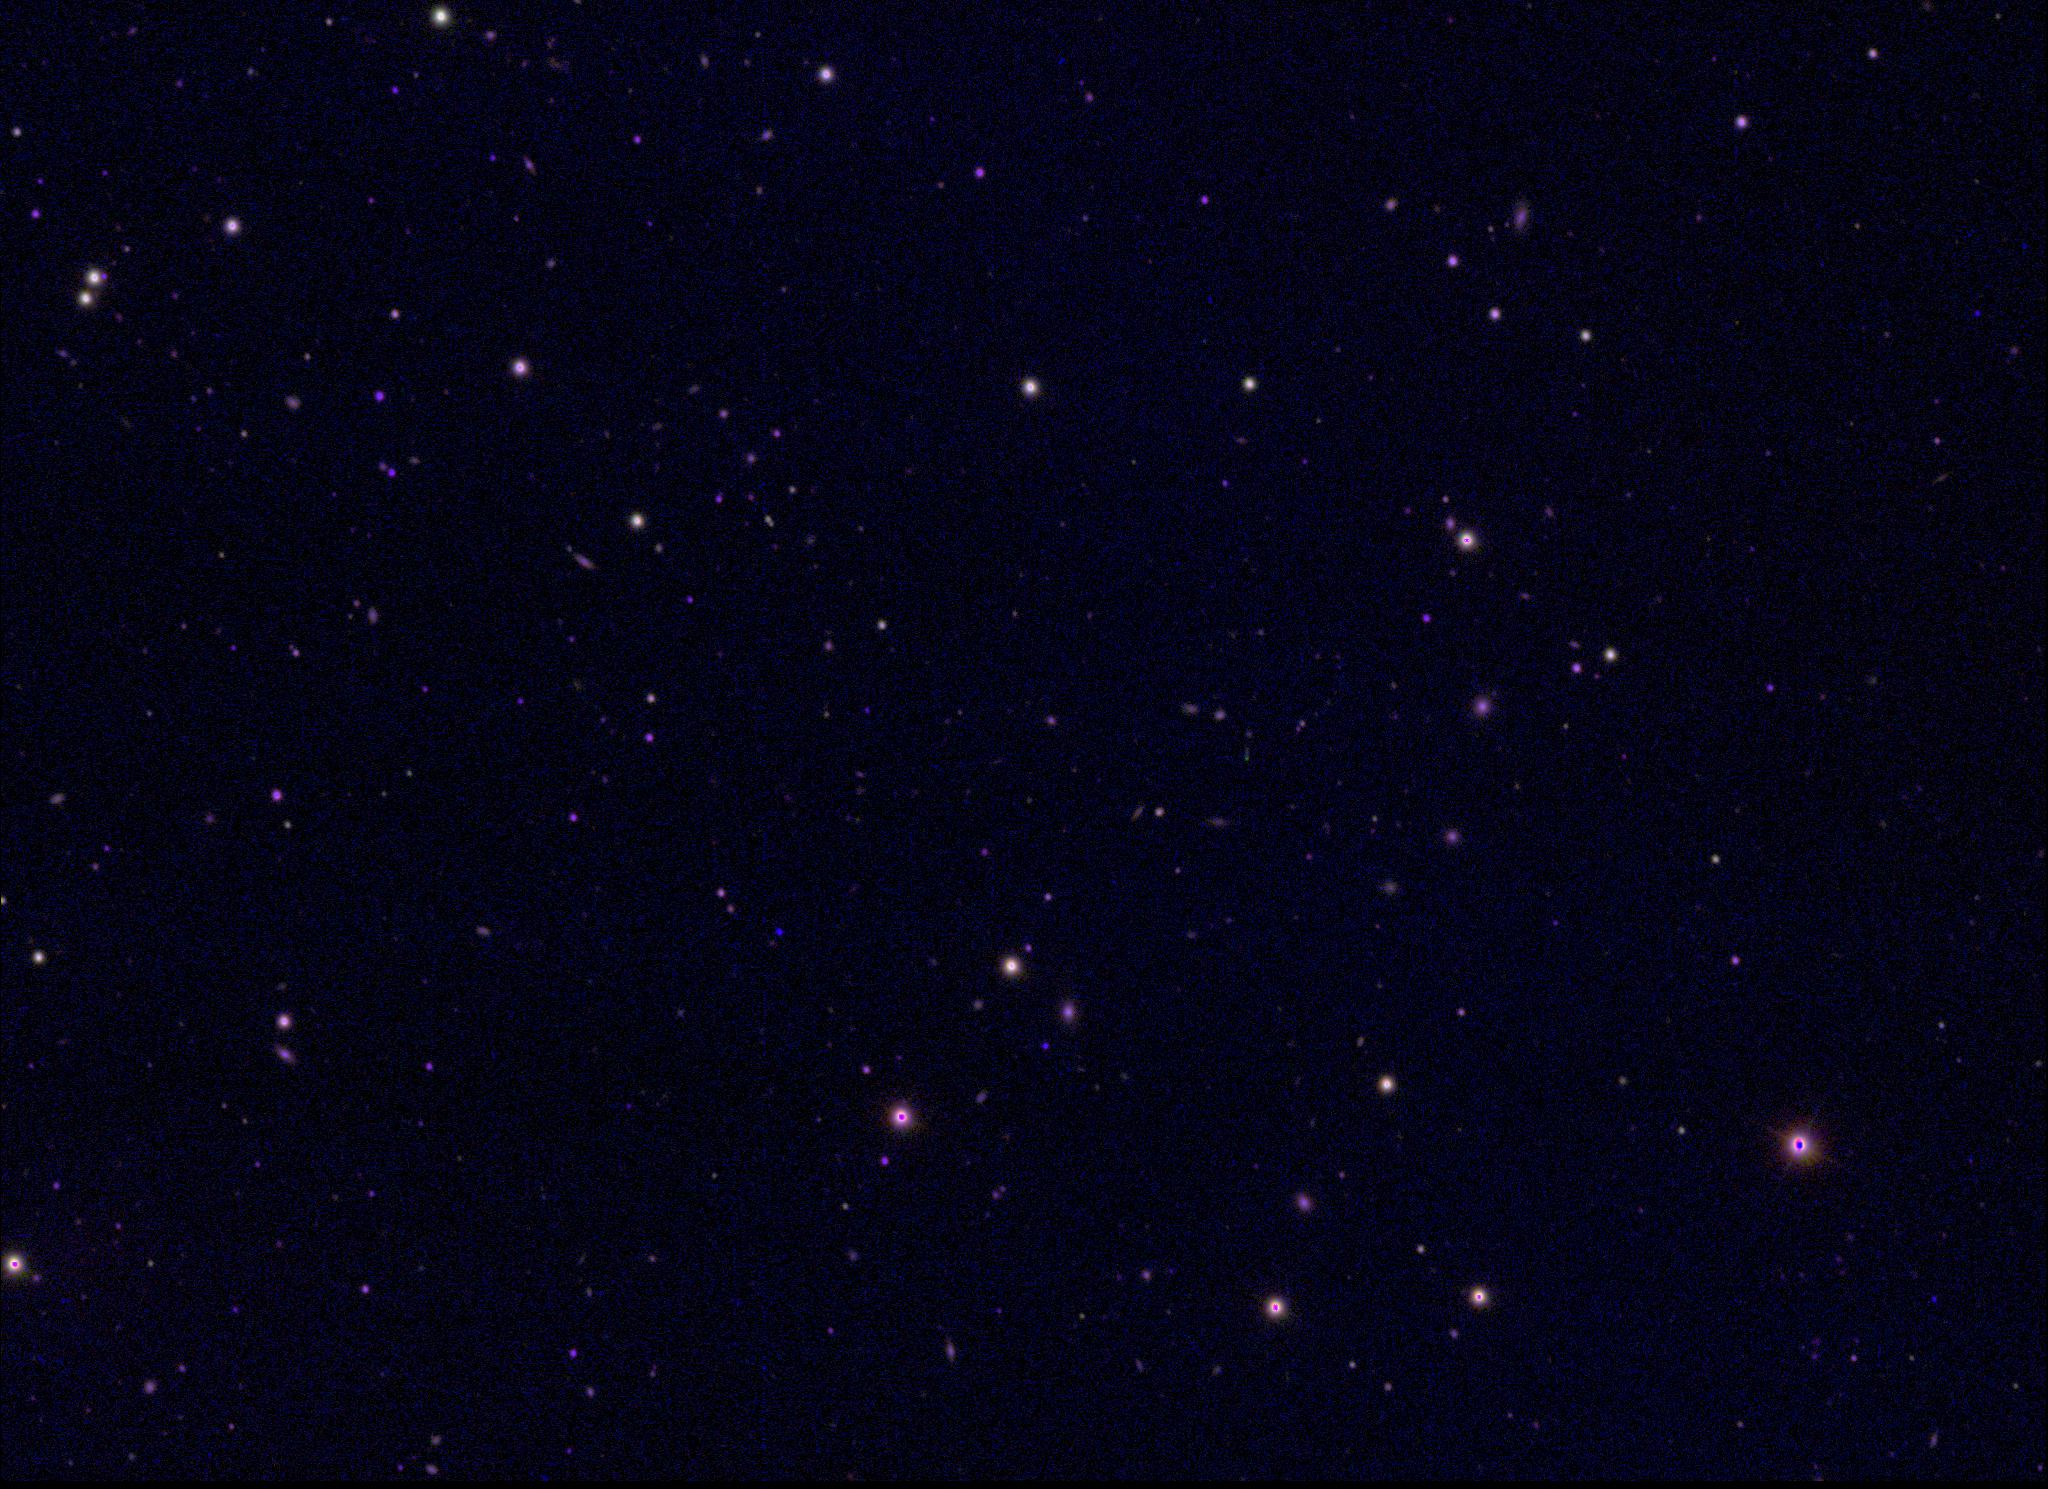L: (773, 924, 787, 939)
